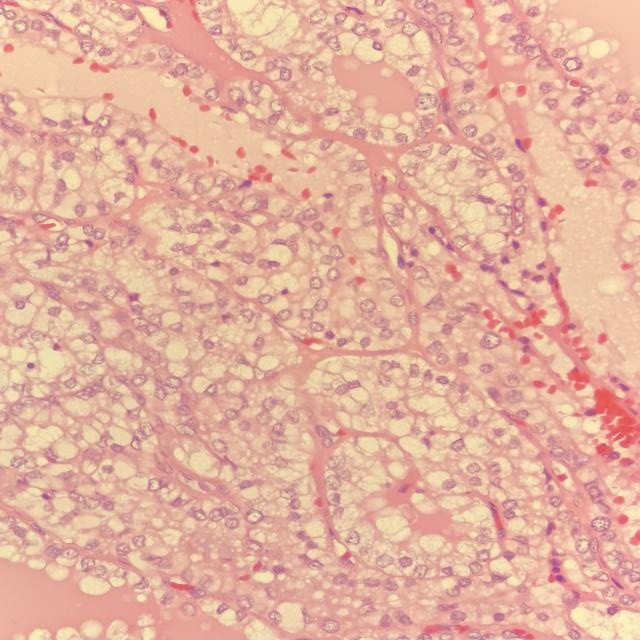TC: (336, 145, 376, 186), (464, 326, 511, 359), (486, 366, 531, 397), (329, 523, 375, 552), (404, 86, 444, 115), (351, 392, 383, 426), (120, 364, 154, 396), (233, 504, 273, 531), (308, 612, 349, 638), (268, 299, 303, 329), (367, 546, 404, 574), (203, 431, 241, 458), (351, 290, 383, 322), (249, 404, 285, 431), (230, 190, 267, 216), (326, 566, 357, 597), (317, 262, 351, 290), (158, 365, 194, 391), (428, 369, 460, 398), (264, 90, 296, 116), (477, 604, 507, 630), (463, 545, 501, 565), (406, 258, 434, 285), (195, 377, 223, 403), (442, 435, 474, 457), (472, 129, 503, 151), (388, 122, 414, 148), (165, 401, 195, 419)
